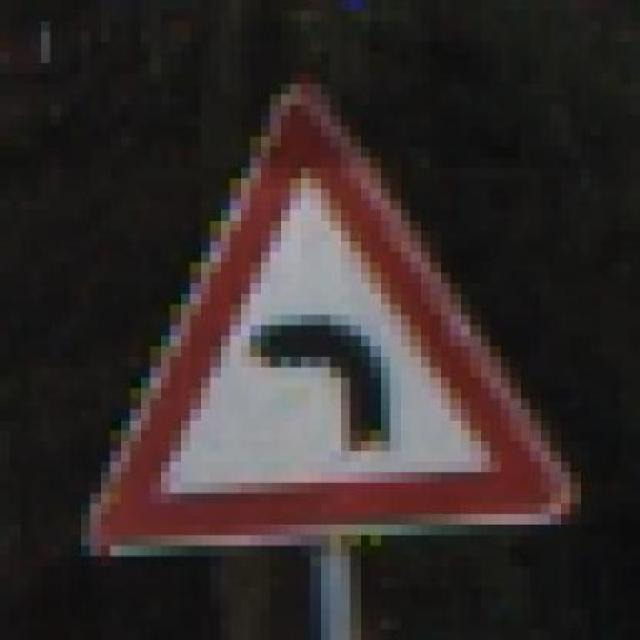Dangerous Left Curve Ahead: (69, 84, 580, 567)
